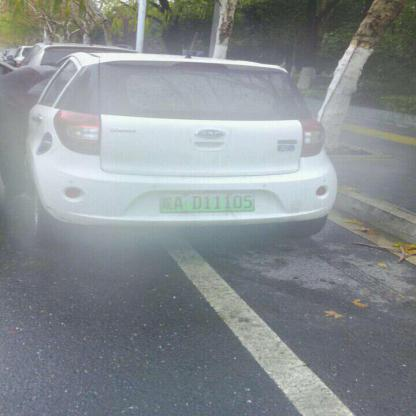lp: (158, 192, 256, 214)
